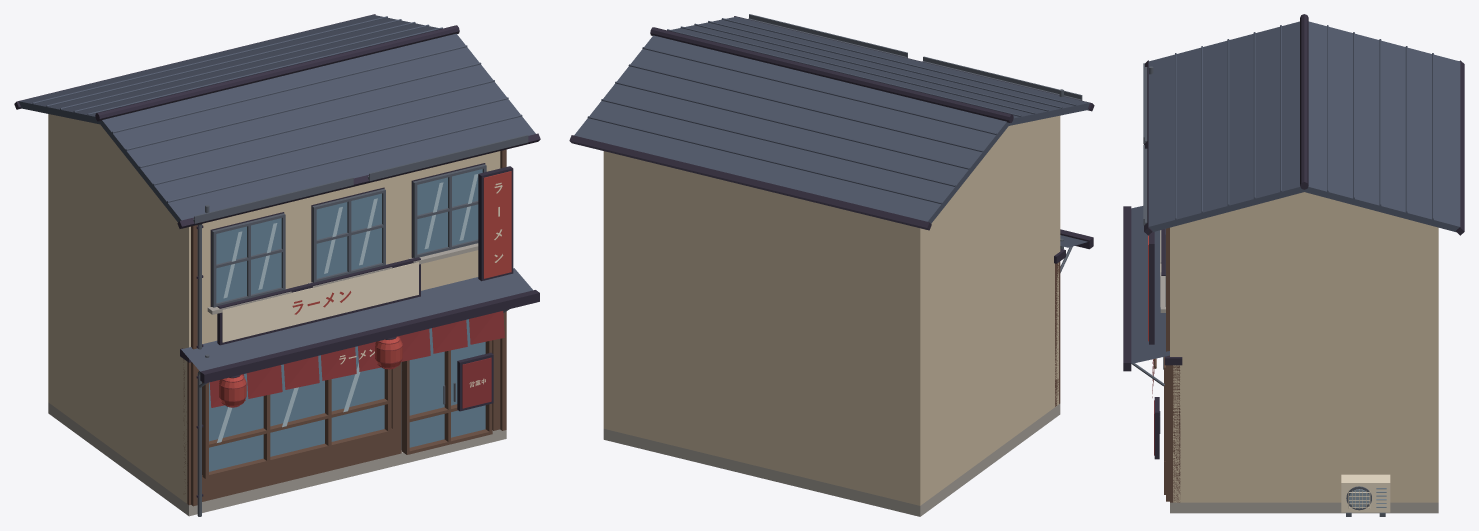
File: SM_RamenShop_Assembled.fbx
The picture shows the model from 3 angles, left to right: view 1: azimuth 30°, elevation 25°; view 2: azimuth 150°, elevation 25°; view 3: azimuth 270°, elevation 25°; orthographic projection. The views are drawn at different scales.
Parts seen in each view (by area): view 1: SM_RamenShop_Assembled; view 2: SM_RamenShop_Assembled; view 3: SM_RamenShop_Assembled.
Part boxes in pixels (x1=…): SM_RamenShop_Assembled: x1=14, y1=14, x2=540, y2=516; SM_RamenShop_Assembled: x1=569, y1=14, x2=1094, y2=516; SM_RamenShop_Assembled: x1=1123, y1=14, x2=1464, y2=516.
Bounding box in the file's own units: 6.82 × 5.85 × 6.44.
